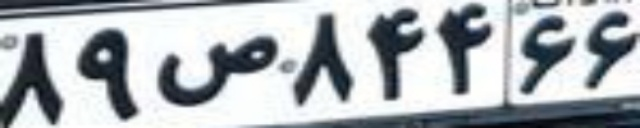4: (432, 4, 492, 96), (366, 7, 422, 95)
6: (519, 12, 576, 93), (584, 11, 635, 87)
8: (4, 31, 65, 121), (292, 11, 352, 101)
9: (76, 28, 141, 117)
saat: (161, 32, 277, 102)
